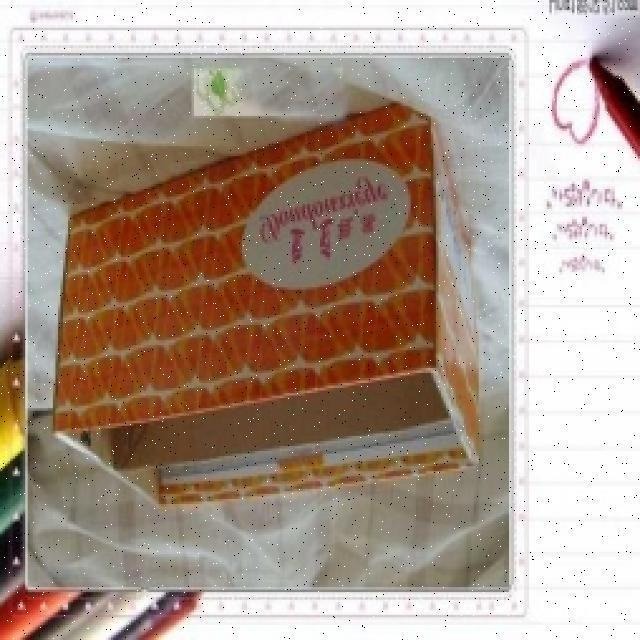box: (45, 87, 483, 518)
